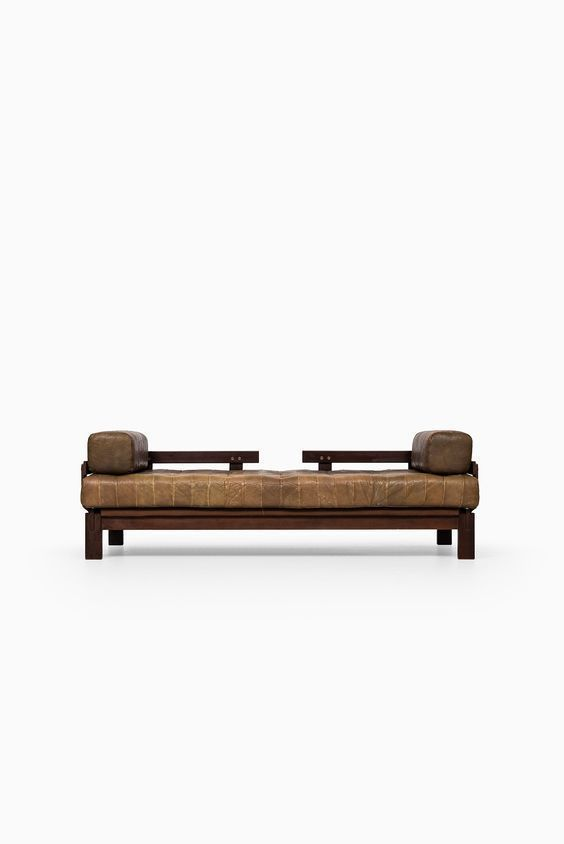3seatersofa: (81, 432, 478, 559)
backrest: (149, 449, 259, 467), (302, 450, 410, 463)
base: (98, 508, 463, 530)
leftarmrest: (413, 431, 477, 476)
leg: (458, 513, 474, 558), (85, 514, 101, 558), (437, 529, 451, 544), (109, 531, 122, 544)
rightarmrest: (88, 431, 147, 474)
seat: (81, 470, 478, 509)
